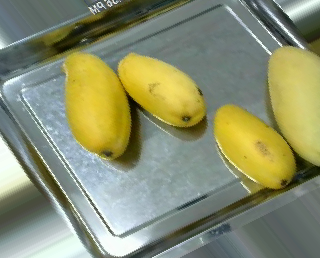Mango: (63, 50, 133, 159), (212, 102, 296, 187), (115, 52, 207, 127), (266, 44, 319, 165)
